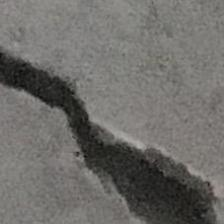Crack: (0, 17, 223, 224)
